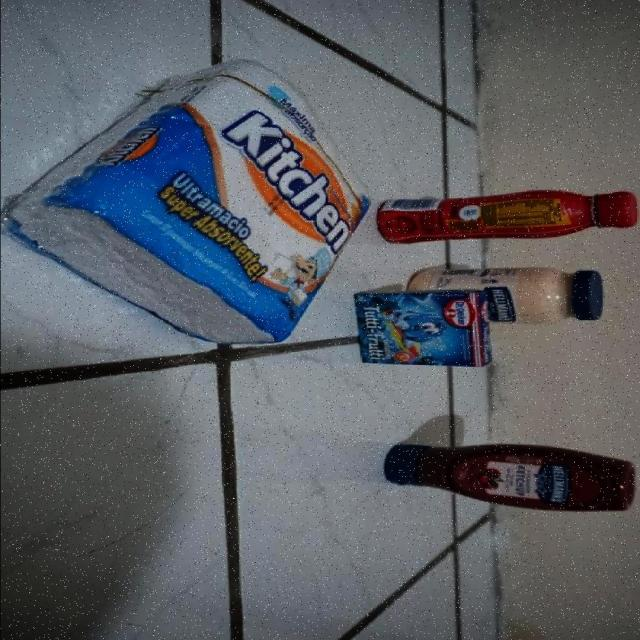ChocolateMilk: (376, 188, 639, 246)
Gelatine: (354, 288, 496, 370)
Ketchup: (384, 442, 634, 512)
Mayonnaise: (410, 266, 602, 324)
Napkin: (8, 58, 371, 346)
